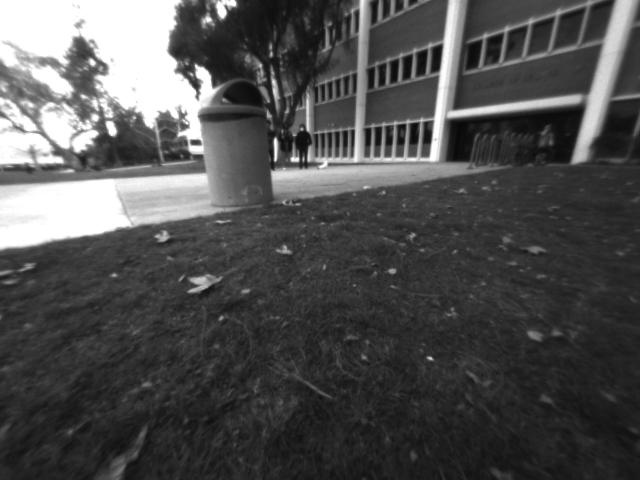trashcan: (193, 69, 286, 214)
